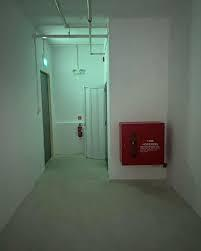exit: (39, 71, 52, 167)
lit_exit_sign: (43, 57, 47, 69)
